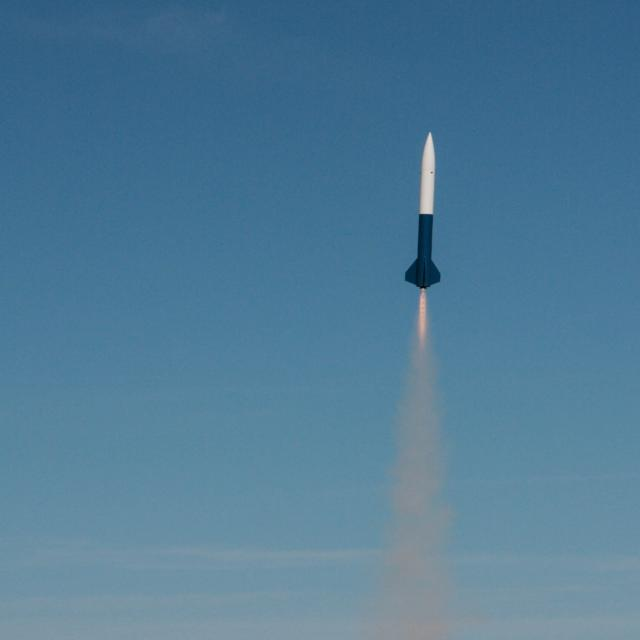Rocket: (404, 131, 443, 289)
